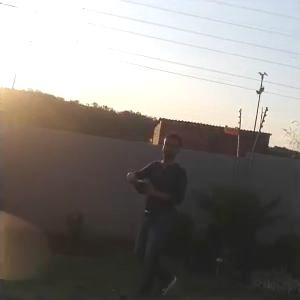follow: (118, 131, 189, 297)
